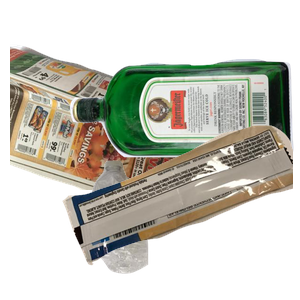glass: (67, 56, 300, 206)
paper: (10, 42, 224, 222)
plastic: (88, 158, 229, 300)
trash: (60, 123, 300, 300)
